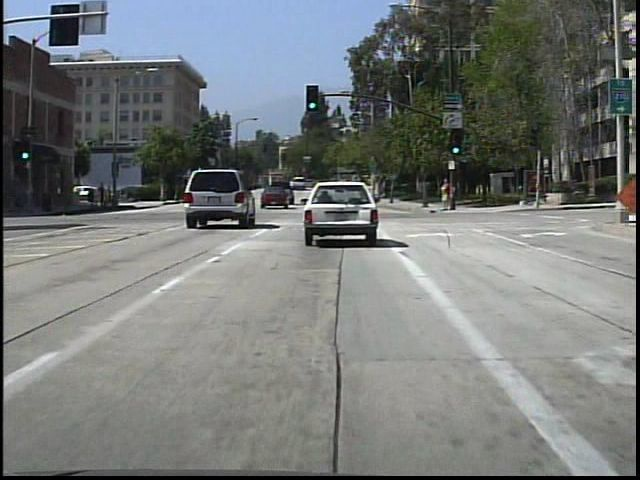person: (436, 173, 454, 213), (100, 180, 111, 212), (112, 182, 113, 209)
